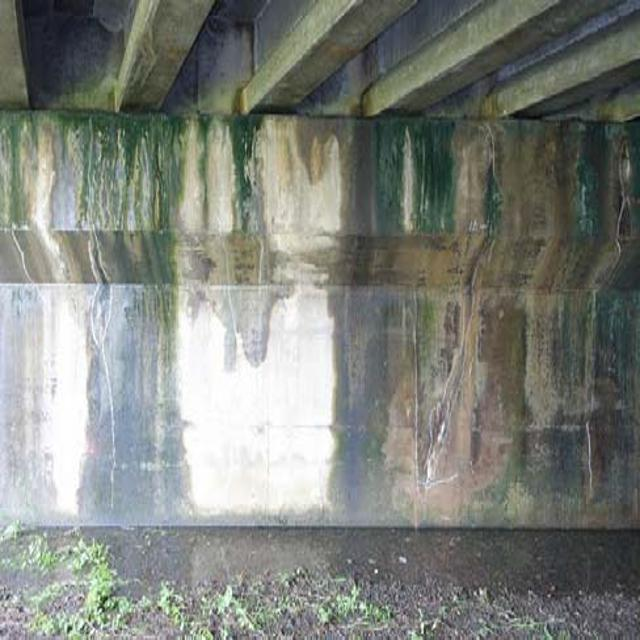leakage: (12, 100, 637, 543)
